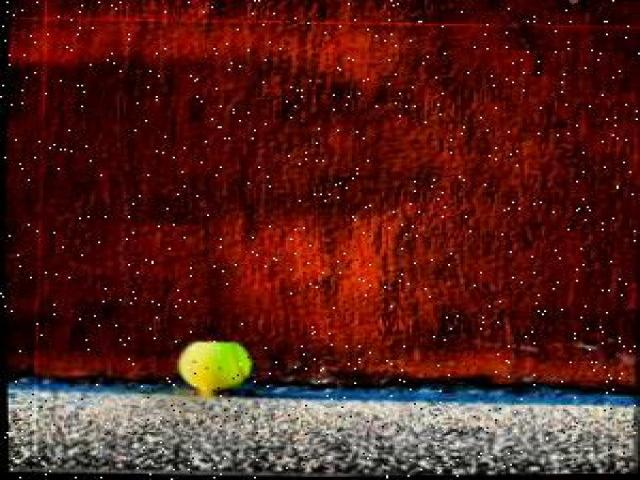tennis-ball: (177, 342, 253, 389)
